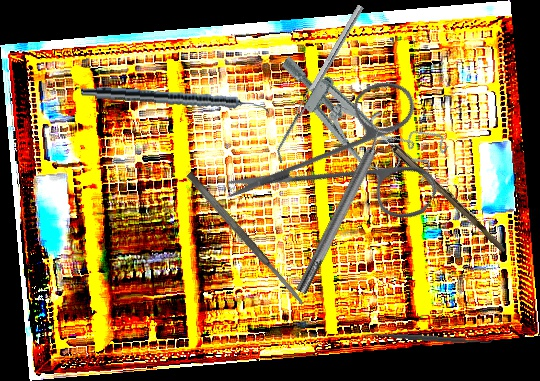Fixation Ring: (285, 109, 403, 299)
Handpiece: (80, 84, 271, 115)
Iris Scissors: (221, 34, 475, 290)
Spatula Surgical: (184, 170, 307, 308), (269, 4, 371, 164), (363, 326, 496, 350)
Speculum: (260, 44, 452, 198)
Surgical Spoon: (349, 107, 510, 253)
